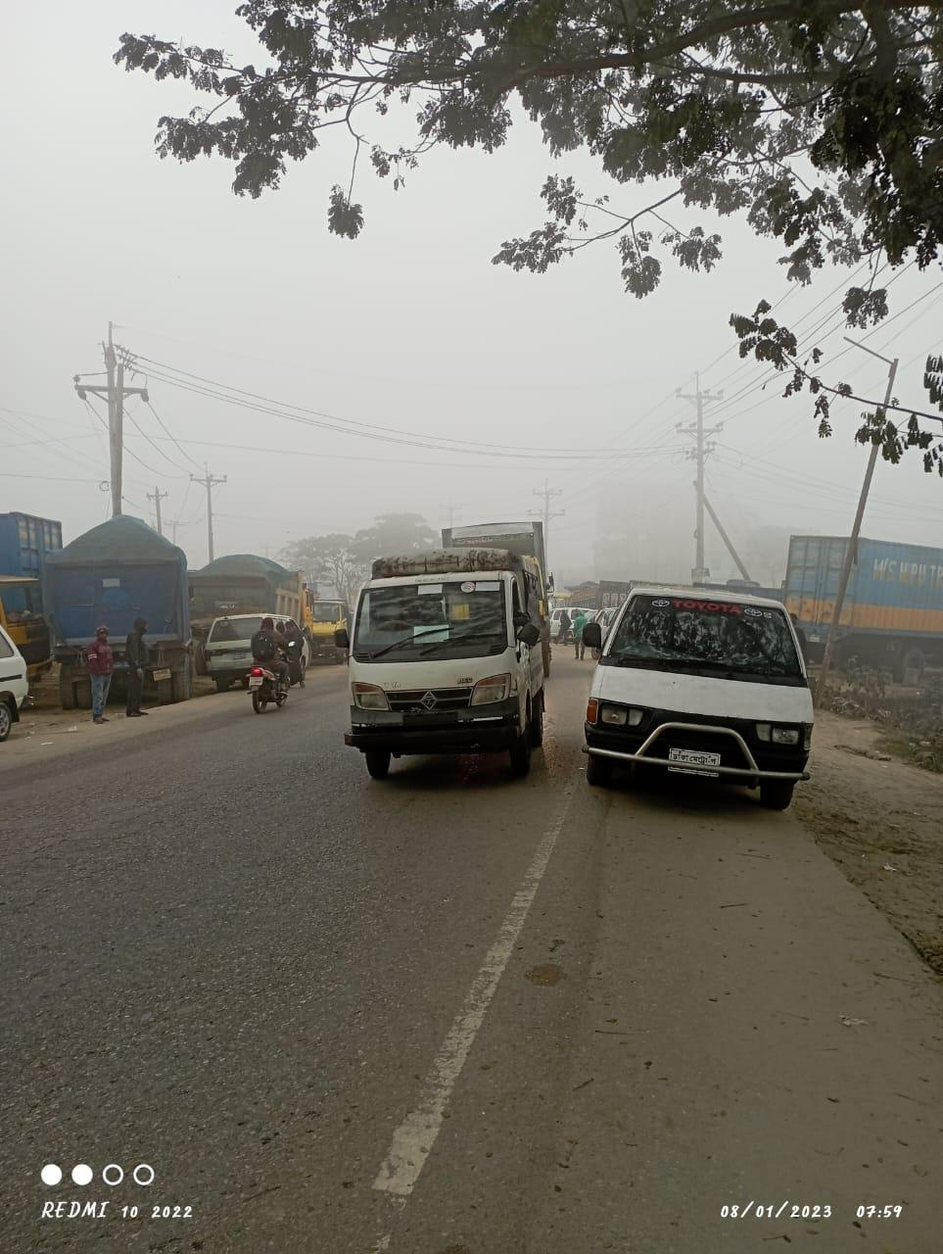Bike: (239, 619, 302, 717)
Car: (580, 579, 825, 819), (335, 545, 557, 780)
Truck: (36, 509, 208, 694), (787, 522, 943, 681)
